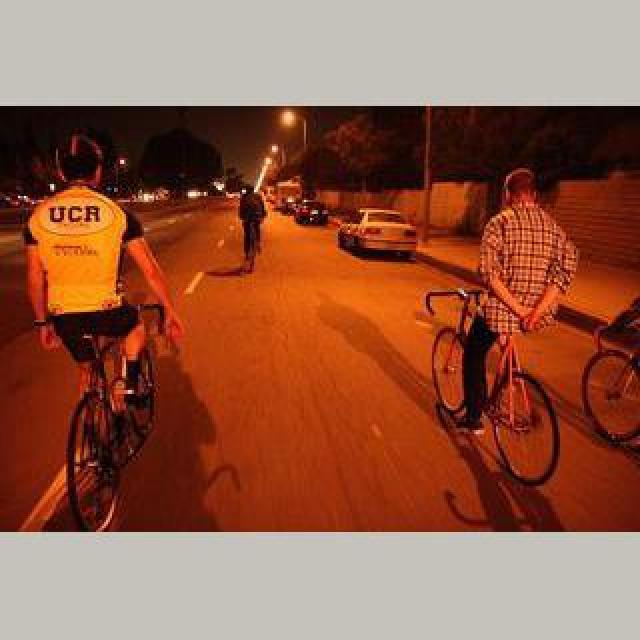Bus-Bike: (336, 210, 418, 260), (292, 200, 330, 226)
MC-Bike: (16, 142, 182, 522), (476, 166, 578, 438), (238, 184, 266, 264)
Person: (40, 302, 164, 530), (426, 288, 564, 486), (242, 220, 262, 274)
